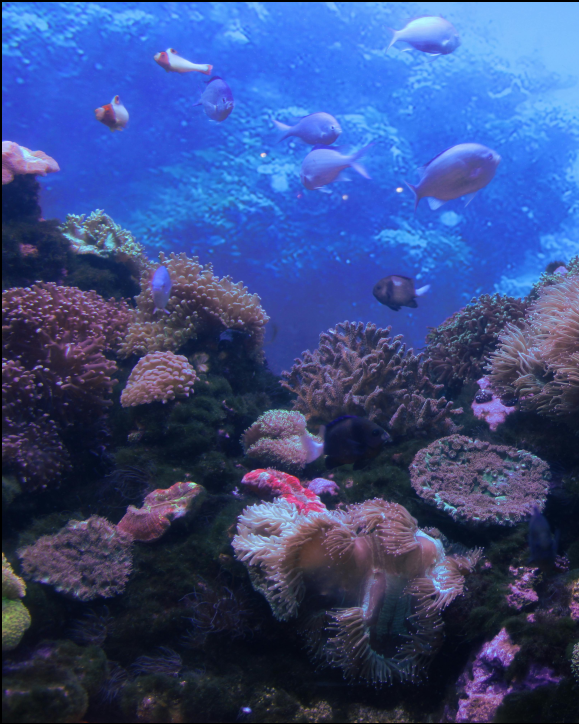fishRound: (406, 142, 501, 214), (301, 414, 393, 473), (388, 13, 463, 61), (297, 143, 371, 191), (270, 110, 345, 145), (373, 271, 431, 311), (194, 80, 236, 124), (151, 259, 172, 314)
fishSmall: (93, 95, 131, 135)
